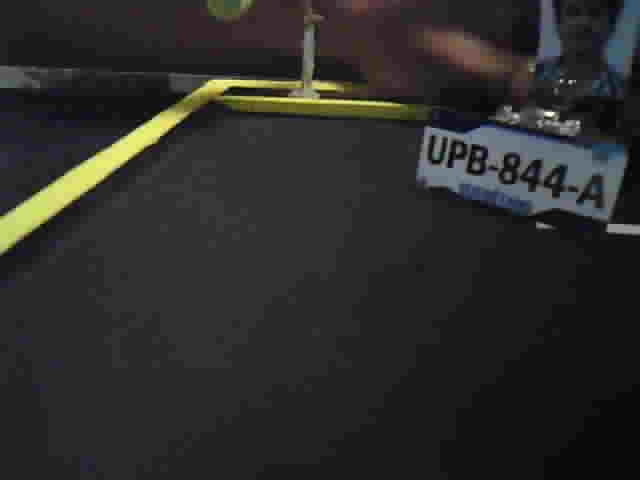PLACA: (413, 106, 631, 242)
ROSTRO: (541, 2, 634, 95)
